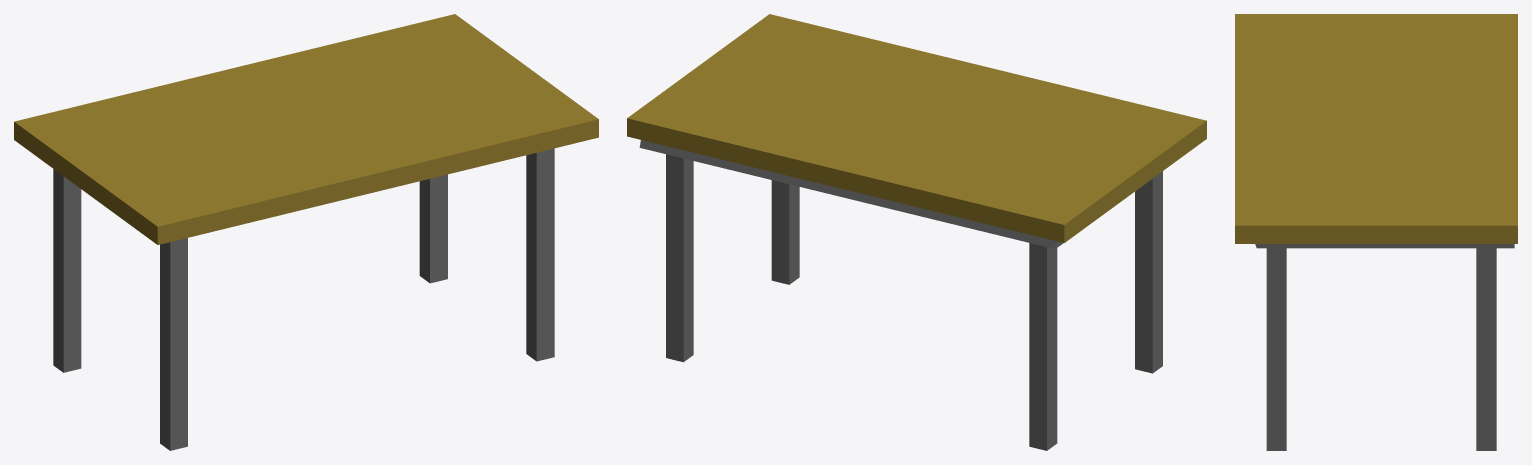
The model's file is StudentDesk.fbx.
3 renders of one model, left to right at view 1: azimuth 30°, elevation 25°; view 2: azimuth 150°, elevation 25°; view 3: azimuth 270°, elevation 25°, orthographic.
Parts seen in each view (by area): view 1: Desk; view 2: Desk; view 3: Desk.
Boxes of the visible parts, x1,y1,x2,y2 form: Desk: (14,14,598,450); Desk: (627,14,1206,450); Desk: (1235,14,1517,450).
Bounding box in the file's own units: 225 × 118 × 127.
